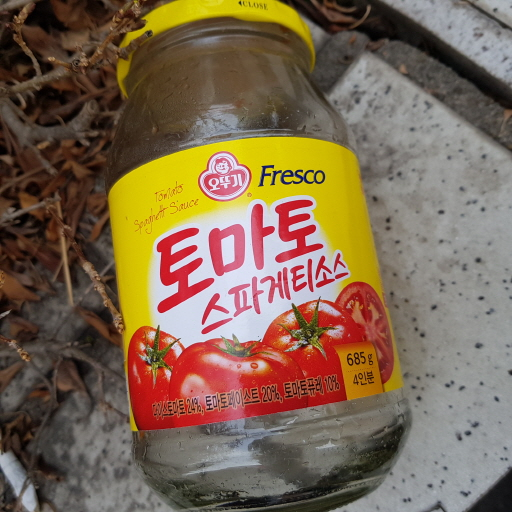Glass_5: (105, 2, 414, 508)
